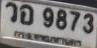letters: (19, 4, 34, 26), (6, 2, 18, 23), (43, 7, 54, 28), (56, 9, 67, 30), (83, 12, 94, 33), (70, 11, 81, 30)
province: (14, 31, 82, 47)
